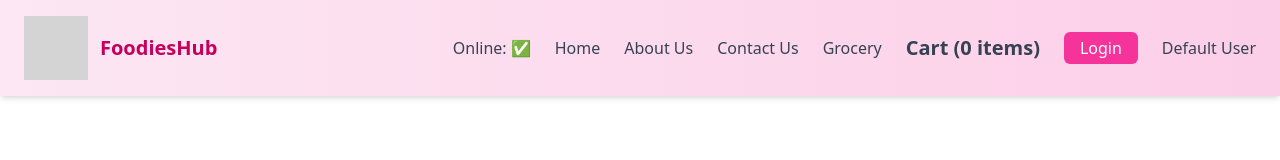
Should load Header component with a logout button on click of login
Step 1. Click the button "Login" → (1101, 48), box [1064, 32, 1138, 64]
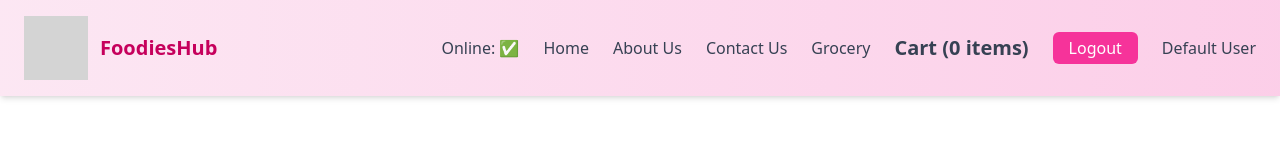
Result: the button "Logout" is shown at [1053, 32, 1138, 64]
